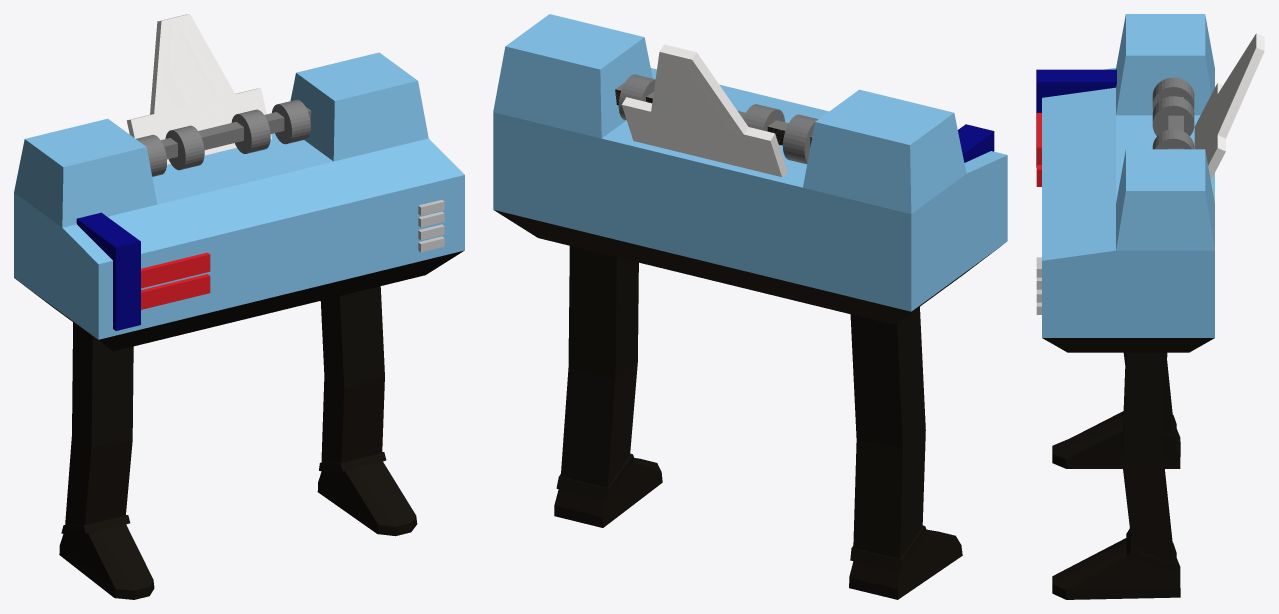
Rendered from CopierMan.fbx.
3 renders of one model, left to right at view 1: azimuth 30°, elevation 25°; view 2: azimuth 150°, elevation 25°; view 3: azimuth 270°, elevation 25°, orthographic. The views are drawn at different scales.
Visible parts, largest first — view 1: Cube, Cube.001, Cube.005, Cylinder.003, Cube.010, Cube.004, Cube.009; view 2: Cube, Cube.001, Cube.005, Cylinder.003, Cube.010; view 3: Cube, Cube.001, Cube.005, Cylinder.003, Cube.010, Cube.004, Cube.009.
Boxes of the visible parts, x1=… form: Cube: x1=14, y1=52, x2=464, y2=351; Cube.001: x1=59, y1=286, x2=417, y2=599; Cube.005: x1=126, y1=14, x2=271, y2=164; Cylinder.003: x1=136, y1=99, x2=310, y2=176; Cube.010: x1=76, y1=212, x2=140, y2=330; Cube.004: x1=141, y1=252, x2=210, y2=309; Cube.009: x1=418, y1=200, x2=444, y2=252; Cube: x1=493, y1=14, x2=1007, y2=324; Cube.001: x1=554, y1=246, x2=962, y2=599; Cube.005: x1=621, y1=44, x2=787, y2=176; Cylinder.003: x1=618, y1=74, x2=818, y2=164; Cube.010: x1=958, y1=124, x2=994, y2=162; Cube: x1=1042, y1=14, x2=1214, y2=352; Cube.001: x1=1052, y1=352, x2=1180, y2=599; Cube.005: x1=1194, y1=33, x2=1264, y2=180; Cylinder.003: x1=1152, y1=77, x2=1194, y2=149; Cube.010: x1=1036, y1=69, x2=1116, y2=167; Cube.004: x1=1036, y1=113, x2=1041, y2=186; Cube.009: x1=1036, y1=257, x2=1041, y2=314.
Size of the model in its own units: 897 by 1111 by 474.
